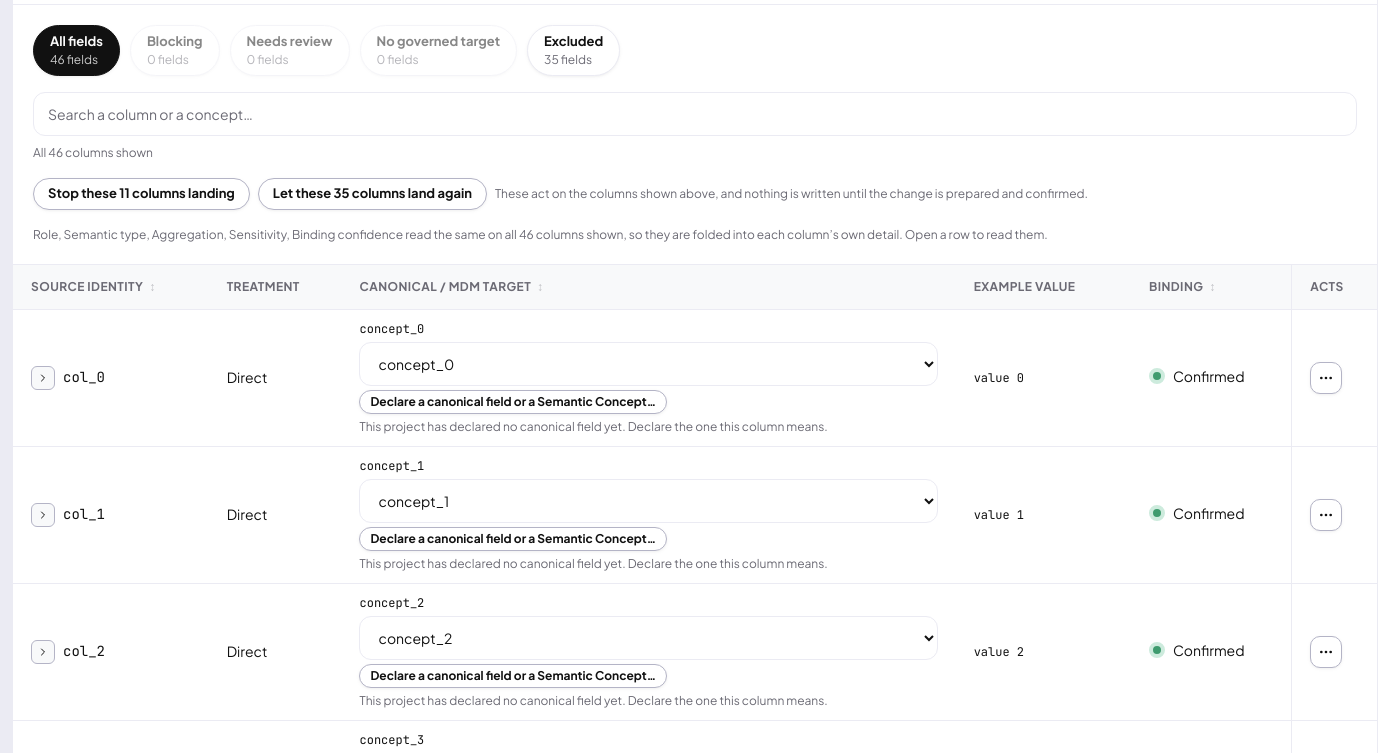
Scenario: Mapping tab — excluding and re-including › names the scope before the act, counting what is being excluded
This screenshot has width=1378, height=753.
(page scrolled)
Click the button with test id "acts-col_0" at coordinates (1326, 378), box [1310, 362, 1342, 394]
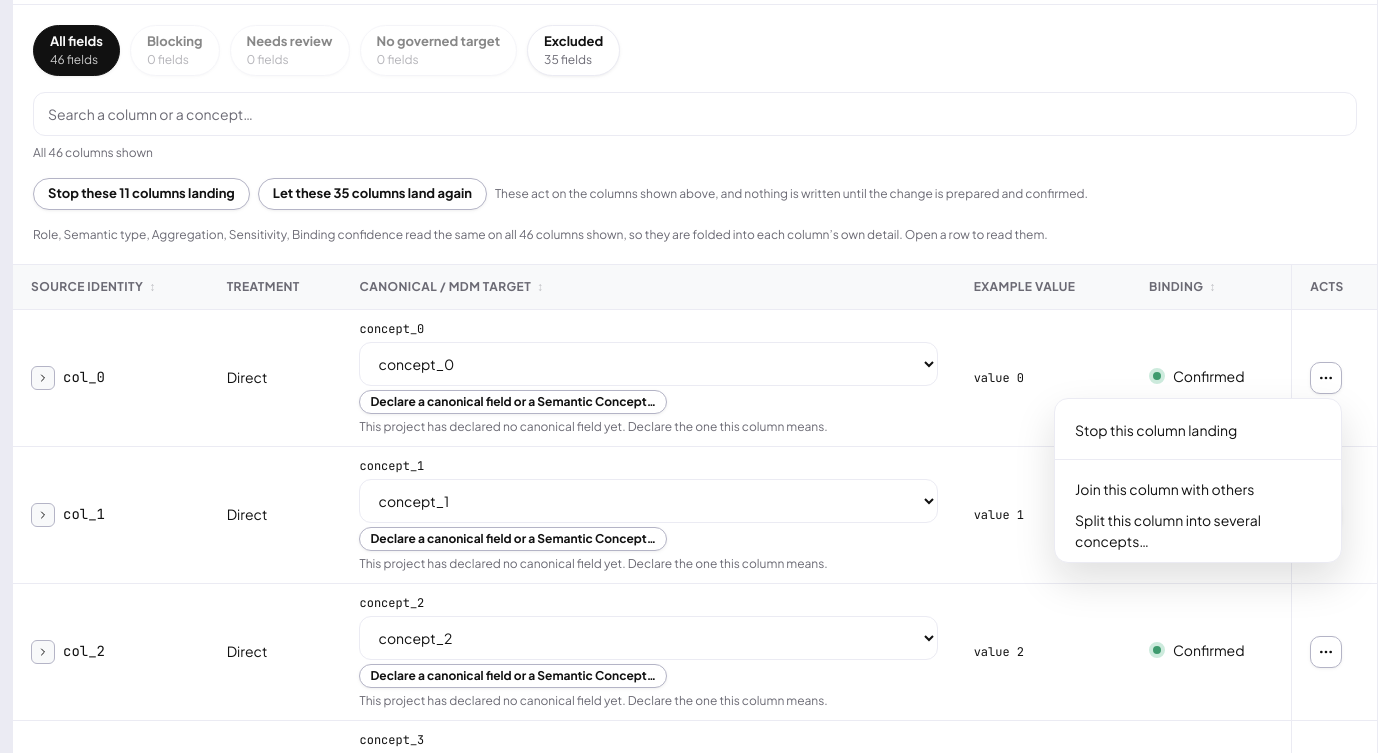
Click the menu item with test id "toggle-exclusion-col_0" at coordinates (1156, 430), box [1075, 420, 1237, 438]
(page scrolled)
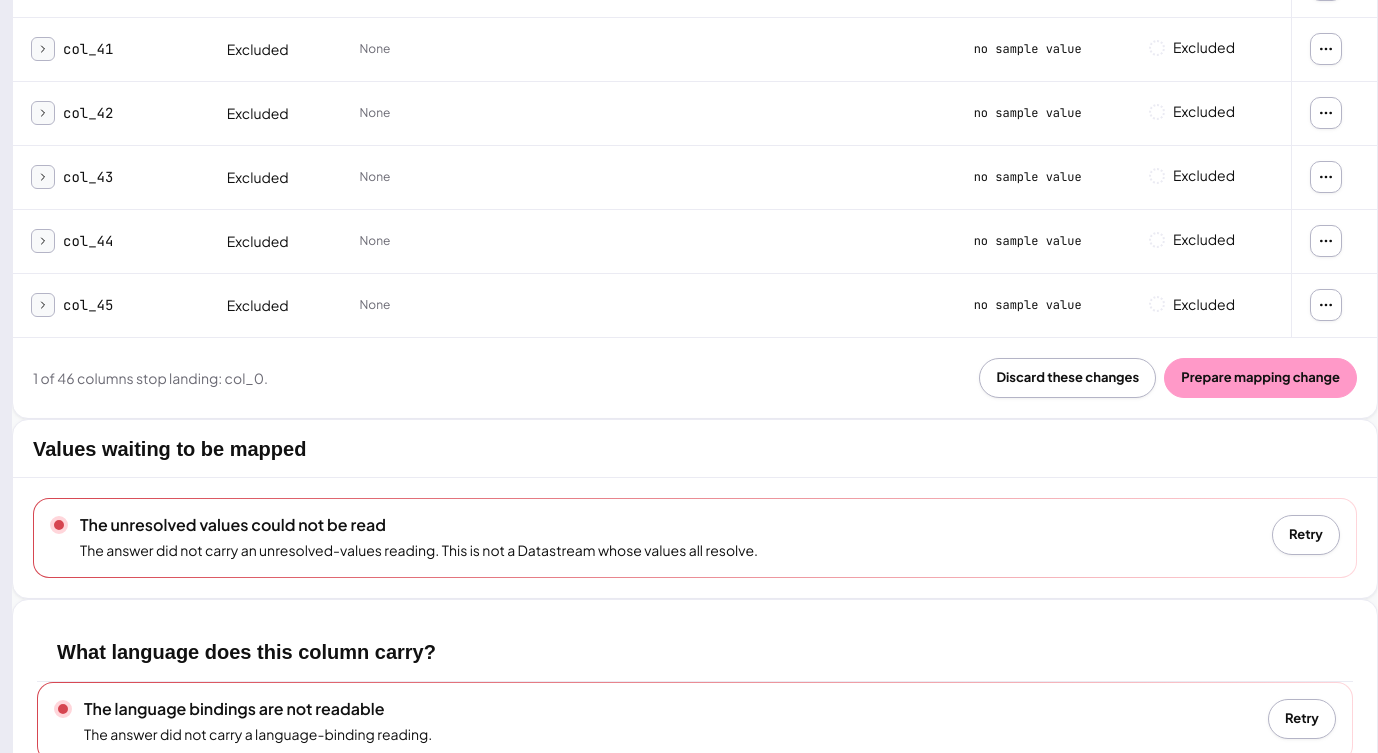
Expected: the element with test id "exclusion-review" shows "1 of 46 columns stop landing: col_0.", [33, 368, 268, 386]
